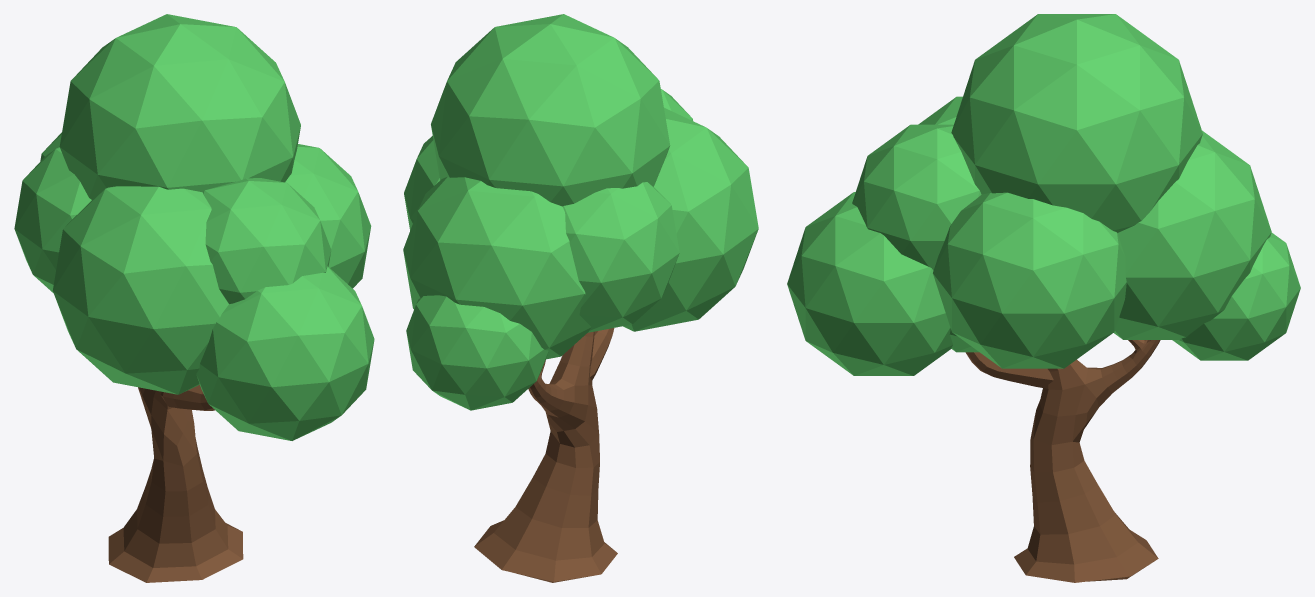
The model's file is Arbol1.fbx.
3 views of the same model, side by side, from view 1: azimuth 30°, elevation 25°; view 2: azimuth 150°, elevation 25°; view 3: azimuth 270°, elevation 25° (orthographic). The views are drawn at different scales.
Parts seen in each view (by area): view 1: Icosphere.006, Cube.001; view 2: Icosphere.006, Cube.001; view 3: Icosphere.006, Cube.001.
Boxes of the visible parts, <box> form: Icosphere.006: <box>14,14,374,440</box>; Cube.001: <box>108,385,243,582</box>; Icosphere.006: <box>403,14,758,410</box>; Cube.001: <box>474,328,617,582</box>; Icosphere.006: <box>787,14,1300,375</box>; Cube.001: <box>965,340,1160,582</box>.
Bounding box in the file's own units: 377 × 632 × 539.
